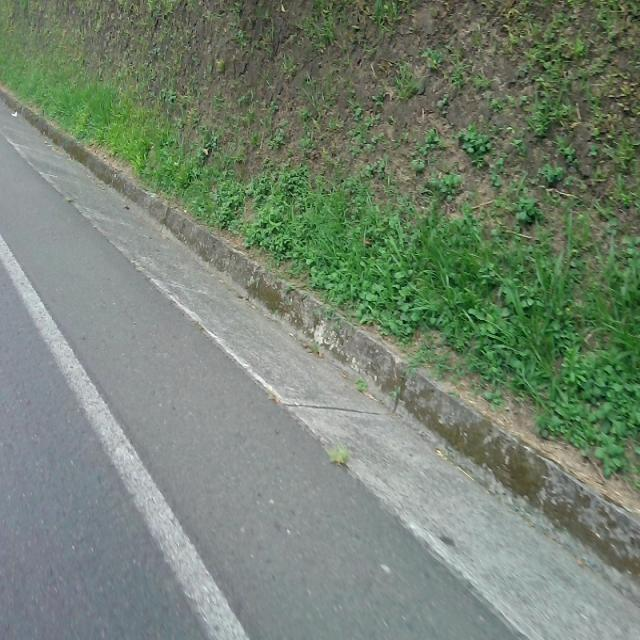DITCH: (1, 76, 638, 638), (1, 86, 638, 638)
